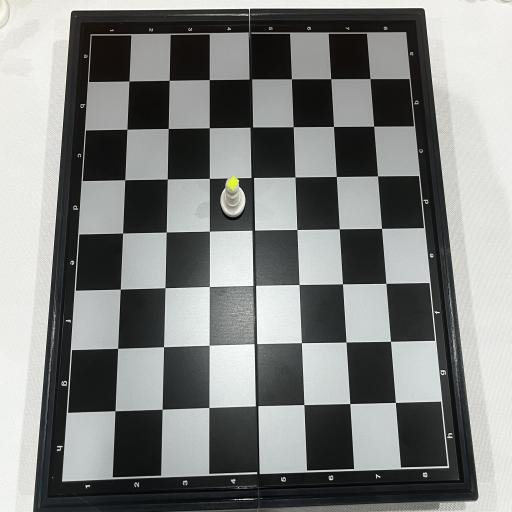White Pawn: (220, 176, 245, 218)
